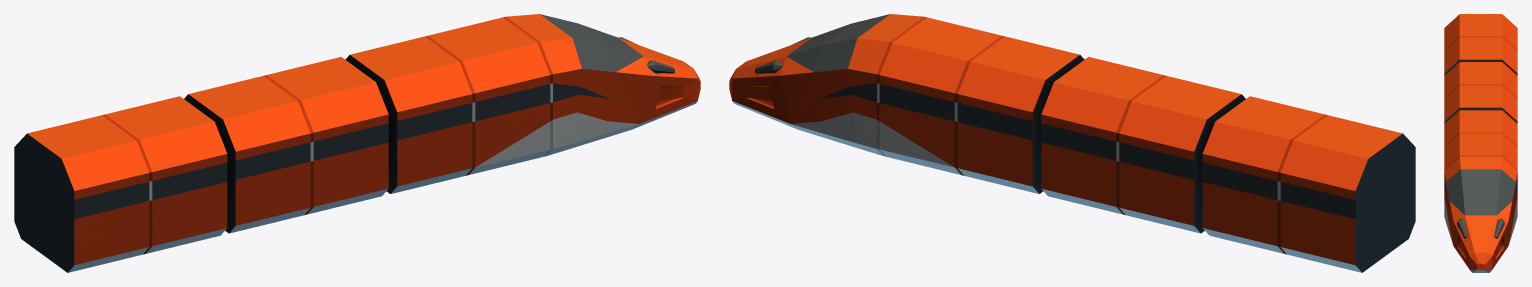
File: PUSHILIN_Bullet_Train.obj
3 renders of one model, left to right at view 1: azimuth 30°, elevation 25°; view 2: azimuth 150°, elevation 25°; view 3: azimuth 270°, elevation 25°, orthographic. The views are drawn at different scales.
Parts seen in each view (by area): view 1: PUSHILIN_Bullet_Train_Circle.002; view 2: PUSHILIN_Bullet_Train_Circle.002; view 3: PUSHILIN_Bullet_Train_Circle.002.
Boxes of the visible parts, <box> form: PUSHILIN_Bullet_Train_Circle.002: <box>14,14,700,272</box>; PUSHILIN_Bullet_Train_Circle.002: <box>729,14,1415,272</box>; PUSHILIN_Bullet_Train_Circle.002: <box>1444,14,1517,272</box>.
Bounding box in the file's own units: 4.97 × 0.7985 × 0.7922.
Materials: 1 (1 with a texture image).
